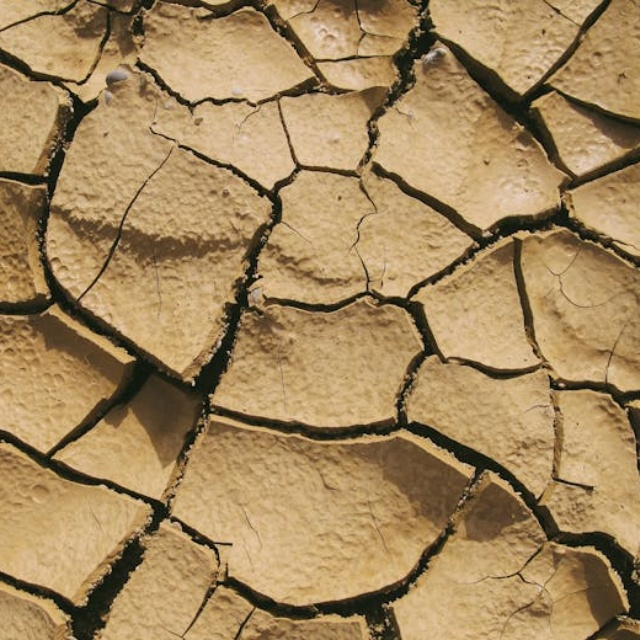深大裂缝: (210, 353, 640, 640), (31, 460, 153, 640)
网状裂隙: (36, 0, 640, 376)
